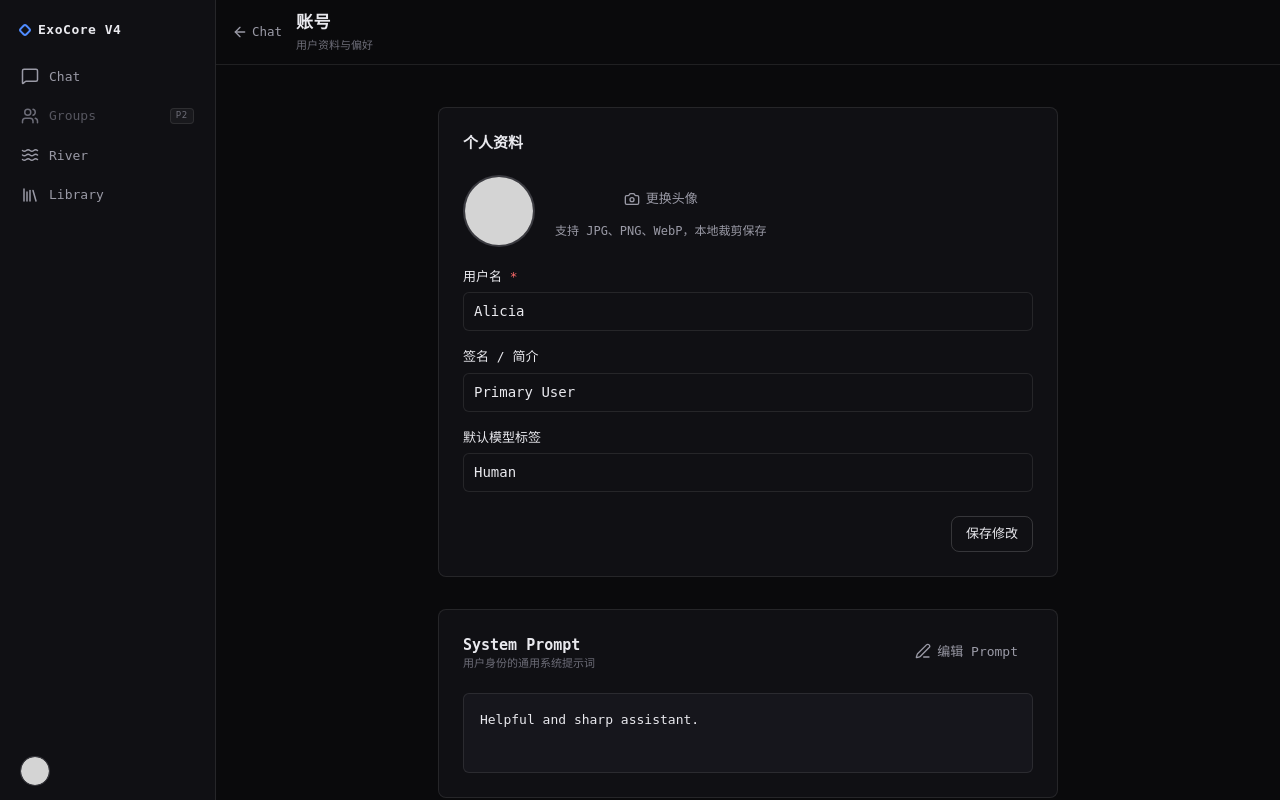
Scenario: Phase 2C CP C-1 — Shell, Routes, Title & Account › Profile Modification & Field Isolation › submits only allowlisted fields in PATCH and updates server truth on success
This screenshot has width=1280, height=800.
Edit fields
Replace the text in the field showing "Alicia" with "Alicia Sovereign" at (748, 312), box [463,292,1033,331]
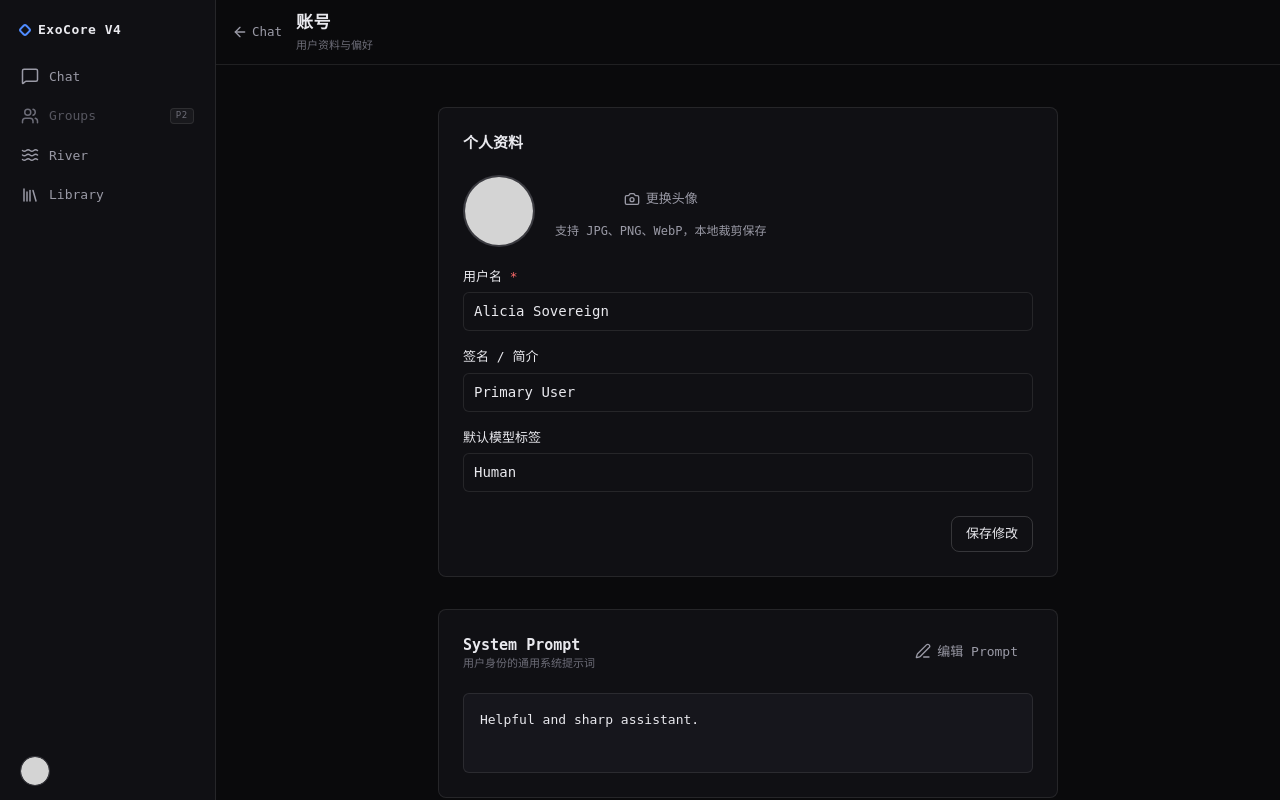
Replace the text in the field showing "Primary User" with "Order & Clarity" at (748, 392), box [463,372,1033,412]
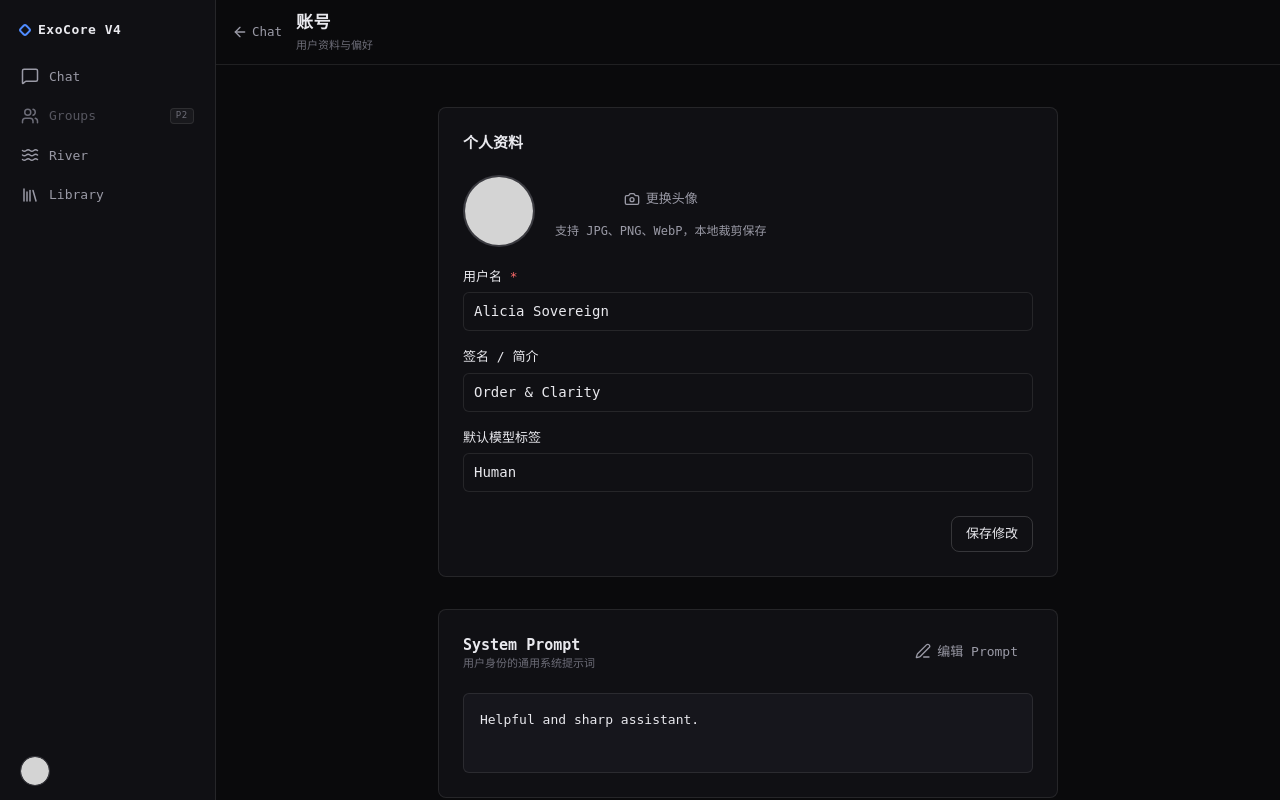
Replace the text in the field showing "Human" with "Custom Model Tag" at (748, 472), box [463,453,1033,492]
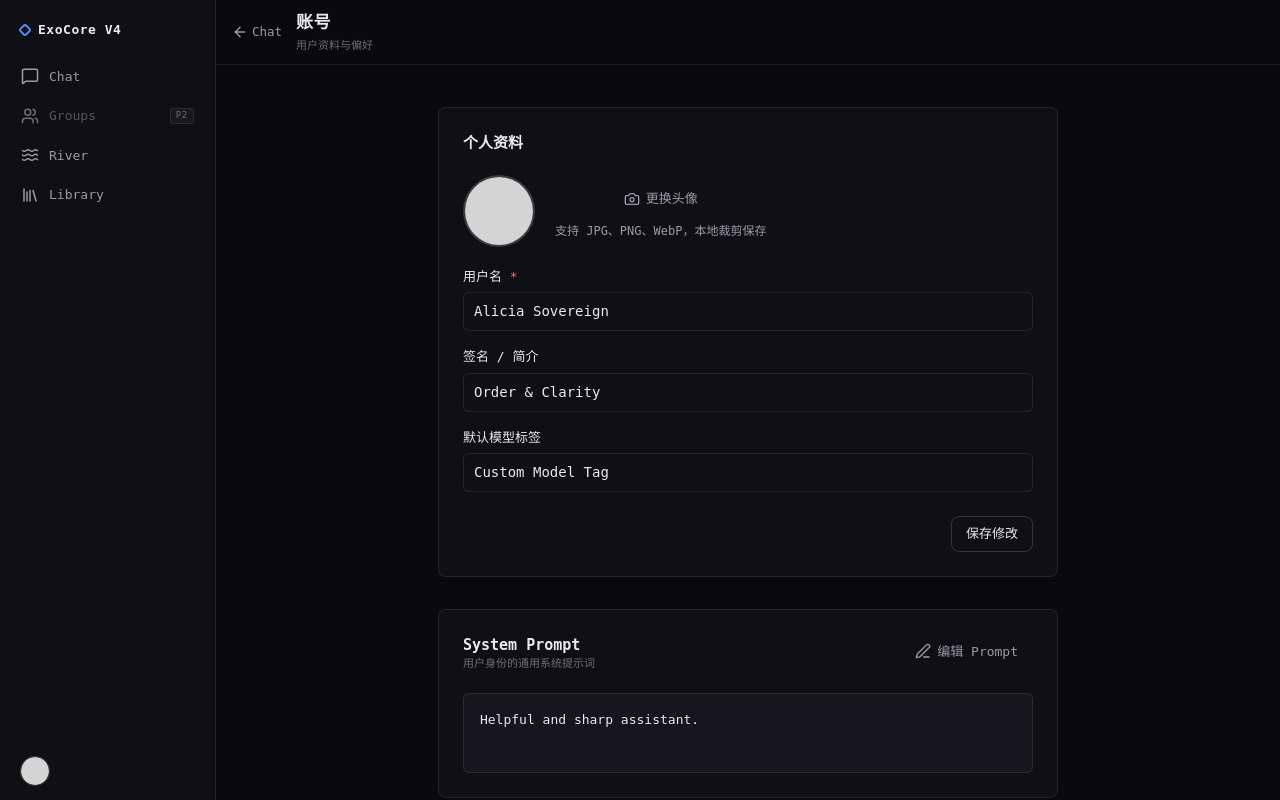
Click the button "保存修改".
click(992, 534)  # box [951,516,1033,552]
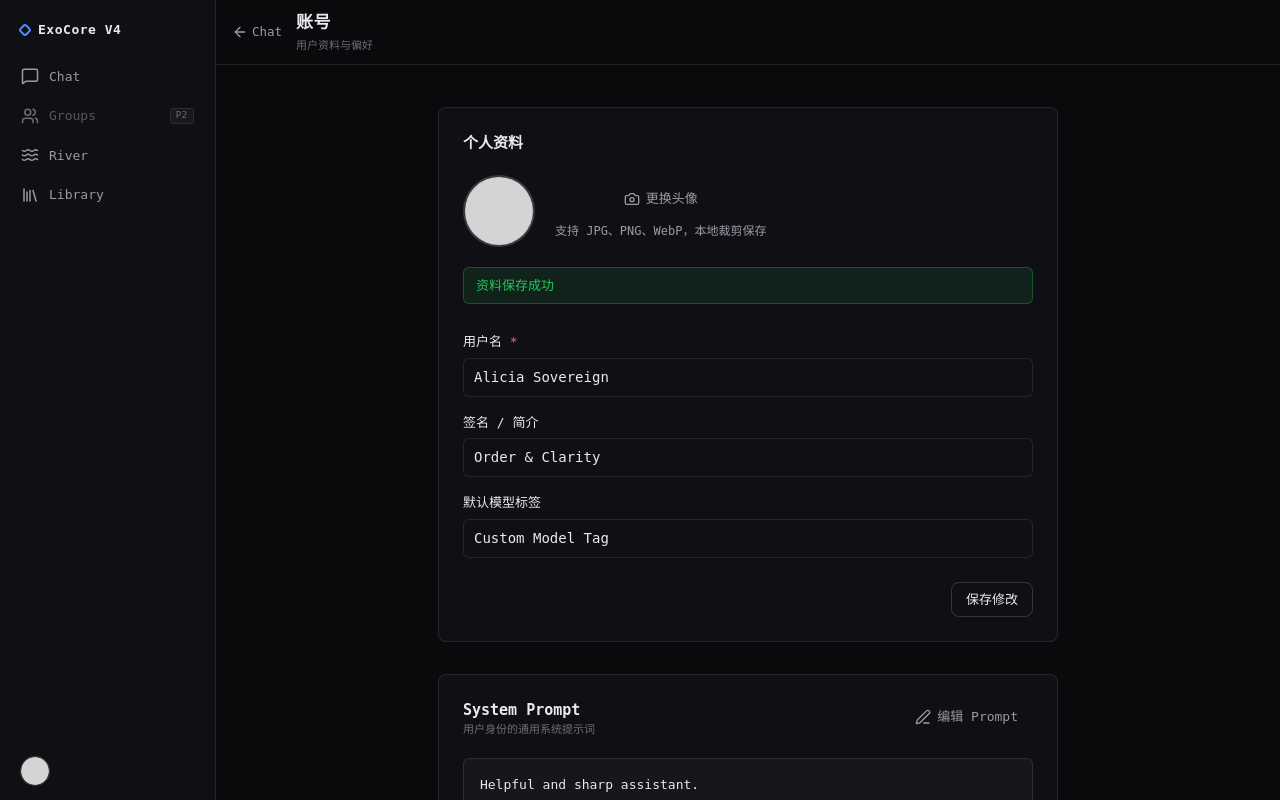
Now the text "资料保存成功" is shown, box [463,266,1033,304]
